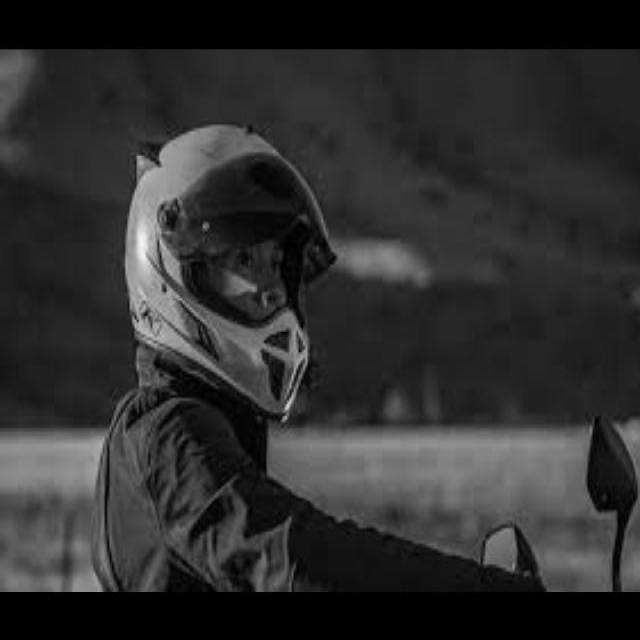5_casco: (114, 100, 344, 436)
